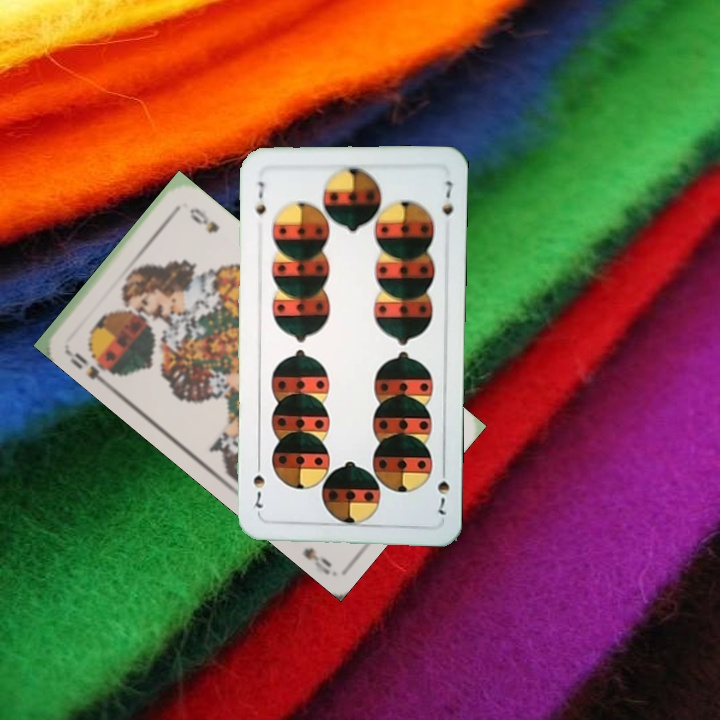S7: (433, 461, 452, 517), (252, 177, 269, 217)
SO: (61, 342, 118, 389)
